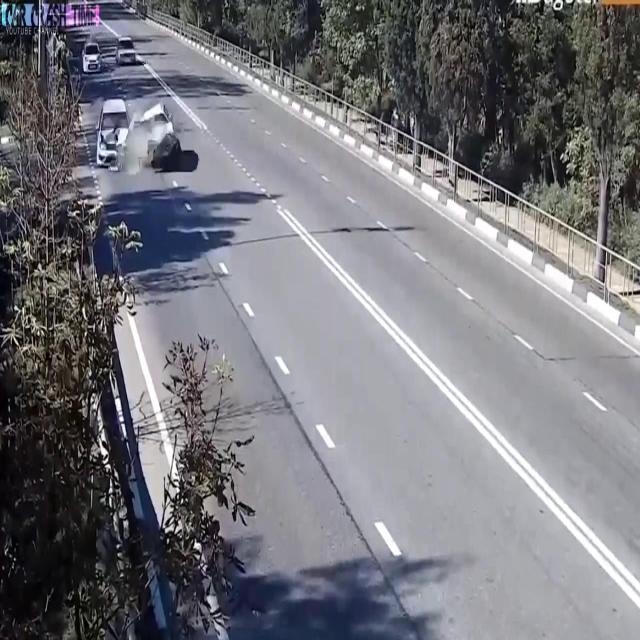accident: (96, 97, 184, 173)
non-accident: (81, 35, 139, 75)
